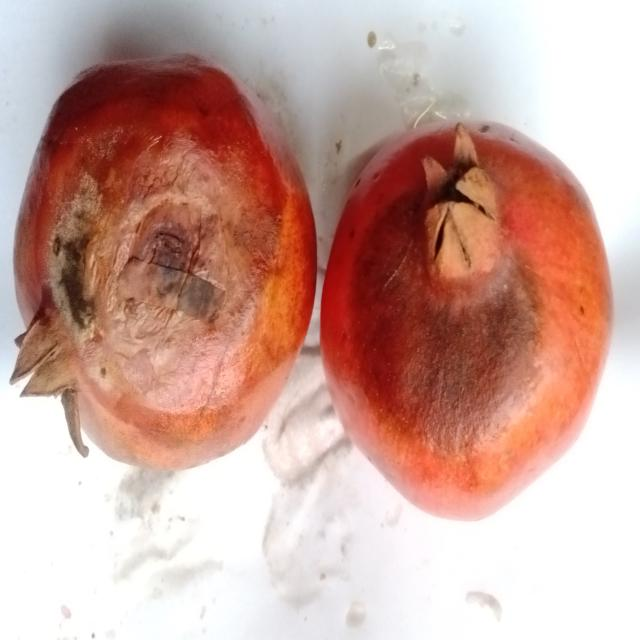Rotten: (9, 38, 318, 479), (319, 111, 618, 522)
